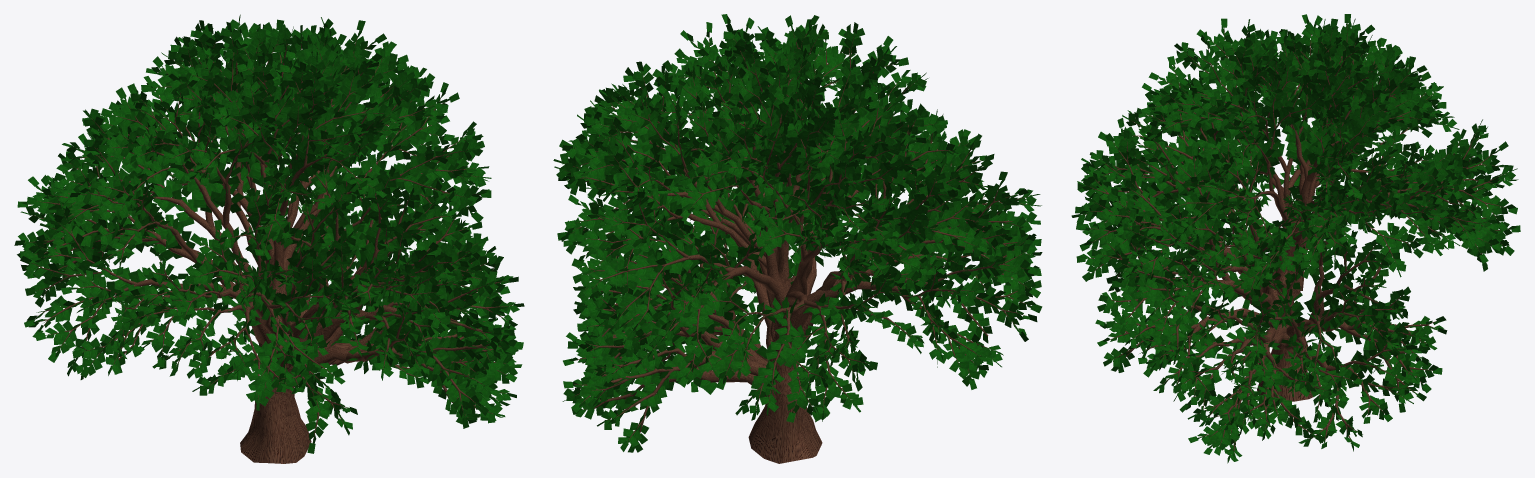
The model's file is tree.fbx.
The picture shows the model from 3 angles, left to right: view 1: azimuth 30°, elevation 25°; view 2: azimuth 150°, elevation 25°; view 3: azimuth 270°, elevation 25°; orthographic projection. The views are drawn at different scales.
Parts seen in each view (by area): view 1: oakWhiteLeafyMedium1Leaf, oakWhiteLeafyMedium1Main; view 2: oakWhiteLeafyMedium1Leaf, oakWhiteLeafyMedium1Main; view 3: oakWhiteLeafyMedium1Leaf, oakWhiteLeafyMedium1Main.
Part boxes in pixels (<box>): oakWhiteLeafyMedium1Leaf: <box>14,14,524,453</box>; oakWhiteLeafyMedium1Main: <box>25,28,512,463</box>; oakWhiteLeafyMedium1Leaf: <box>553,14,1042,452</box>; oakWhiteLeafyMedium1Main: <box>569,29,1030,463</box>; oakWhiteLeafyMedium1Leaf: <box>1071,14,1520,463</box>; oakWhiteLeafyMedium1Main: <box>1083,24,1509,455</box>.
Size of the model in its own units: 48.88 by 44.02 by 48.44.
